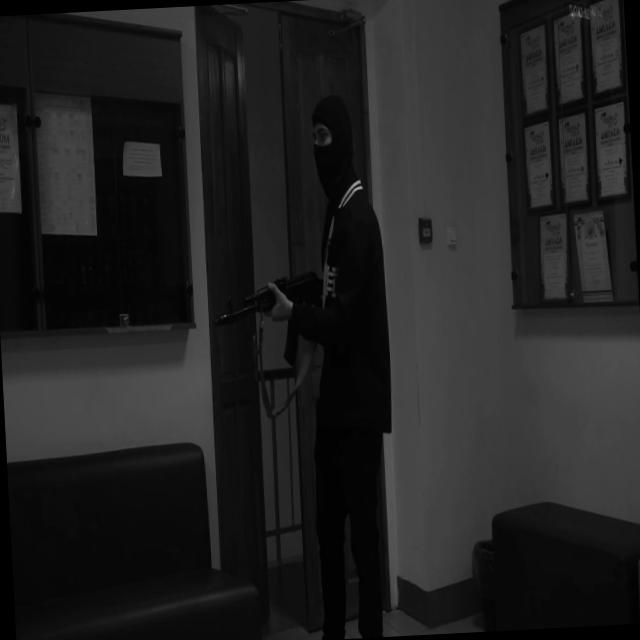gun: (212, 267, 344, 371)
person with a gun: (202, 93, 405, 640)
